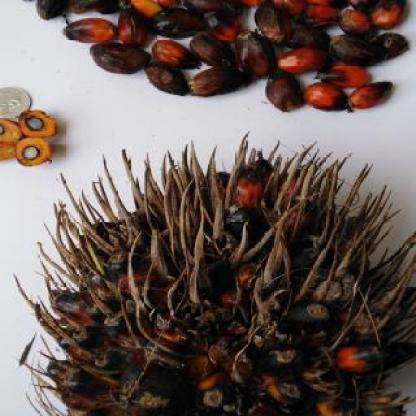Unripe: (44, 190, 416, 416)
